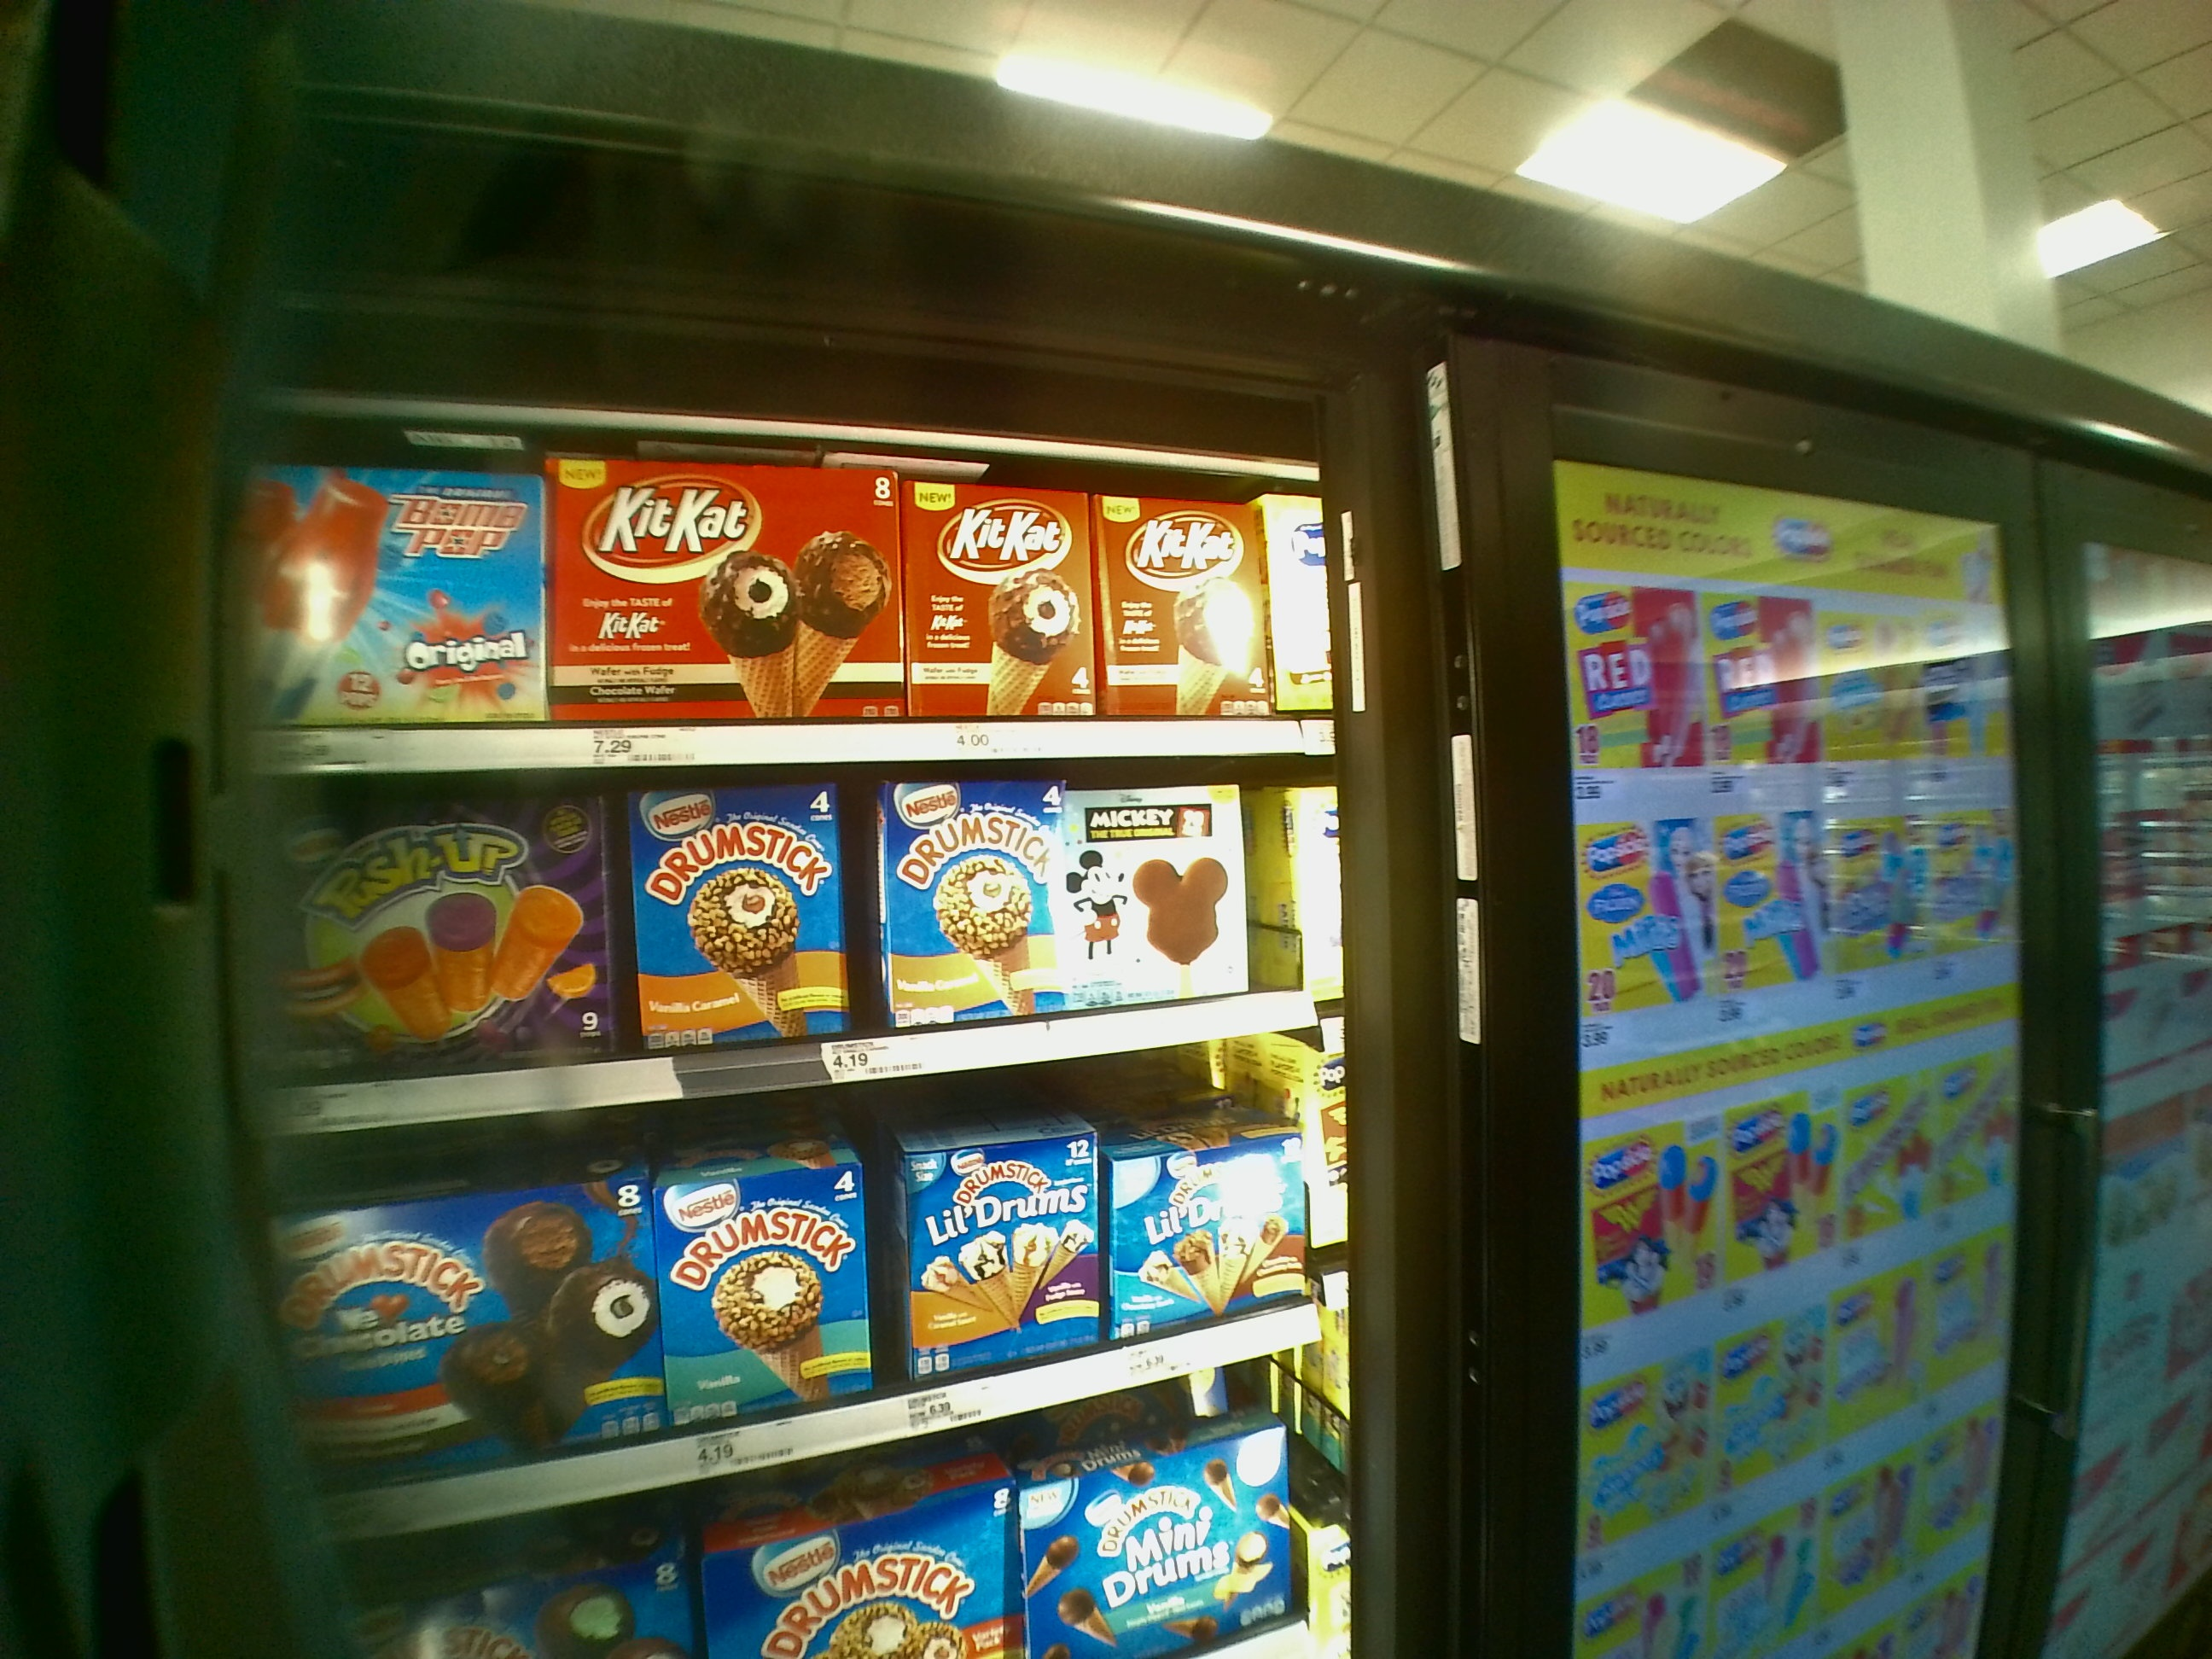shelf: (225, 415, 1364, 763), (284, 1093, 1359, 1455), (253, 767, 1359, 1079)
